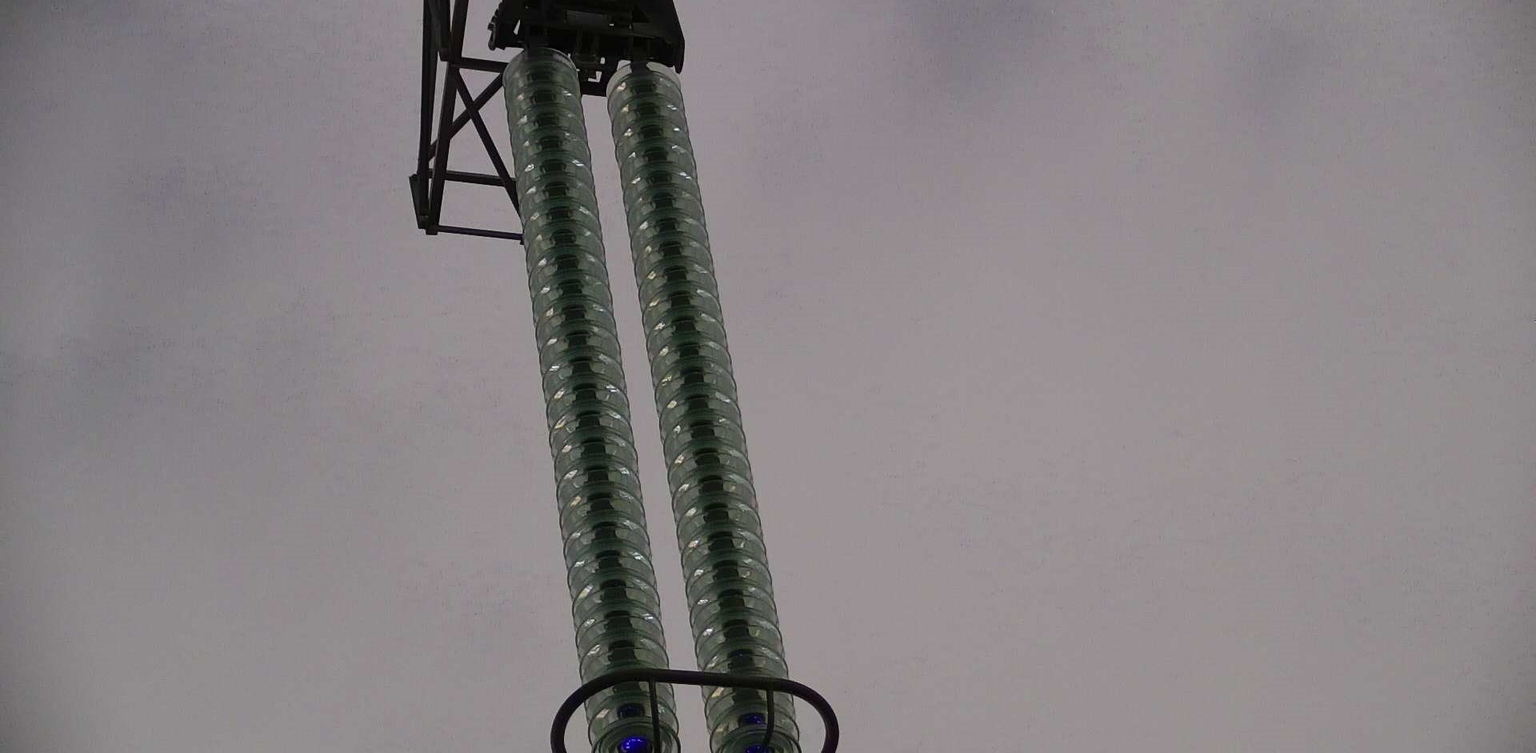绝缘子污闪: (622, 737, 647, 751), (750, 715, 762, 724), (746, 745, 761, 752)
